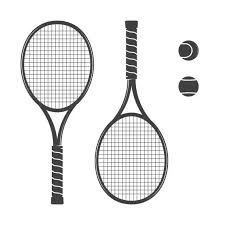tennis racket: (95, 18, 169, 206), (21, 20, 94, 205)
